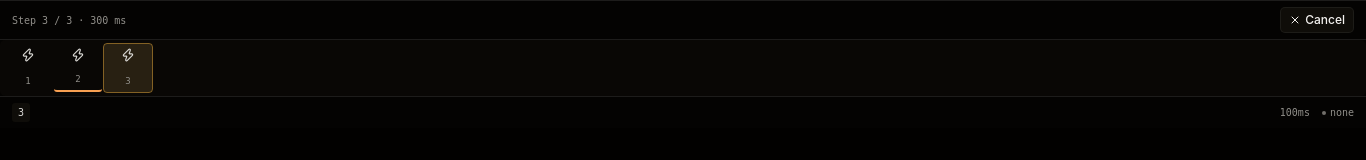
Test case: SimulatorTimeline › renders Promote button only on fuzzy frames
The width and height of the screenshot is (1366, 160).
Step 1. Click the option named "simulator frame 2" → [78, 68], box left=54, top=44, right=102, bottom=92
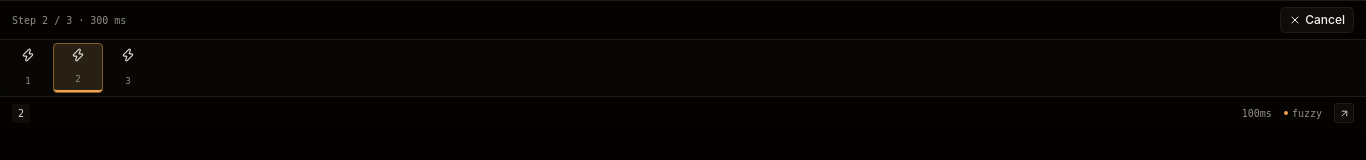
Expected: the number of buttons named "promote" is 1, left=1334, top=103, right=1354, bottom=123
